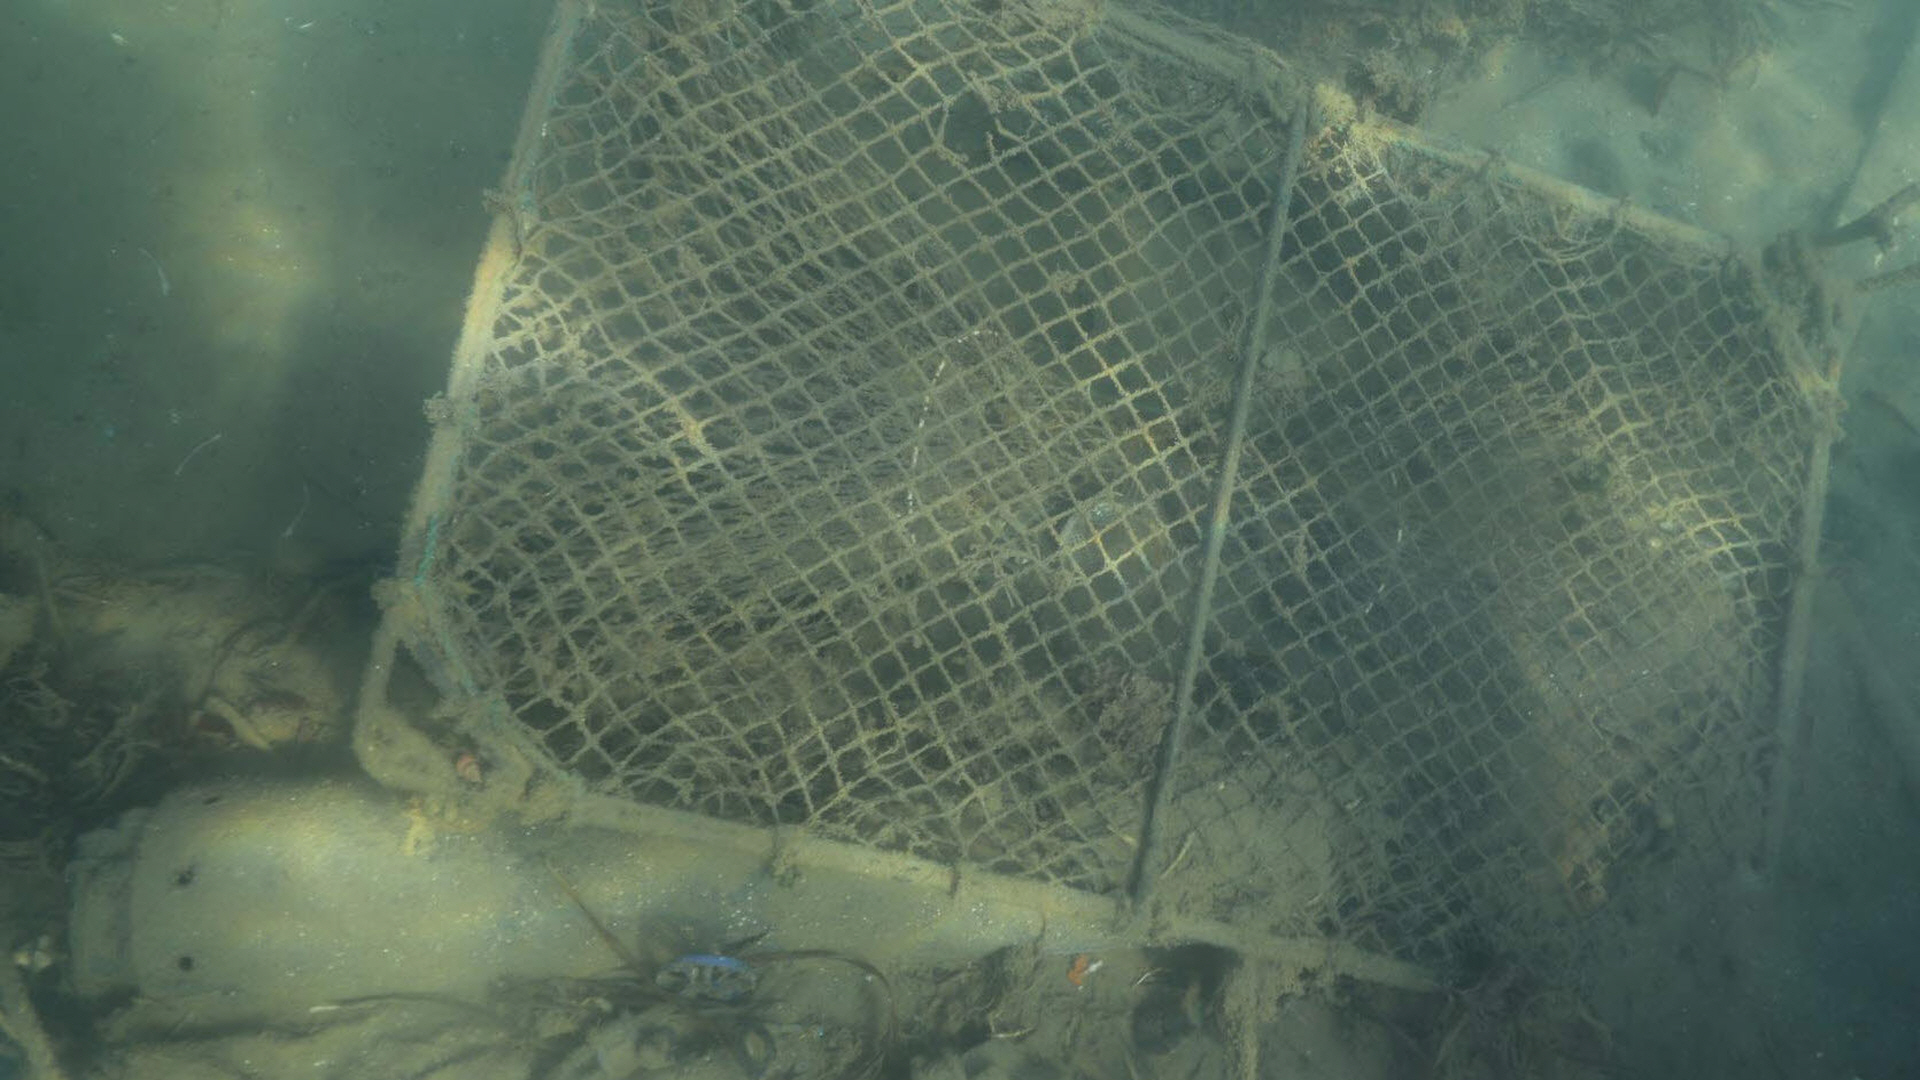eel fish trap: (47, 775, 1149, 1050)
rectangular fish trap: (344, 0, 1857, 1080)
